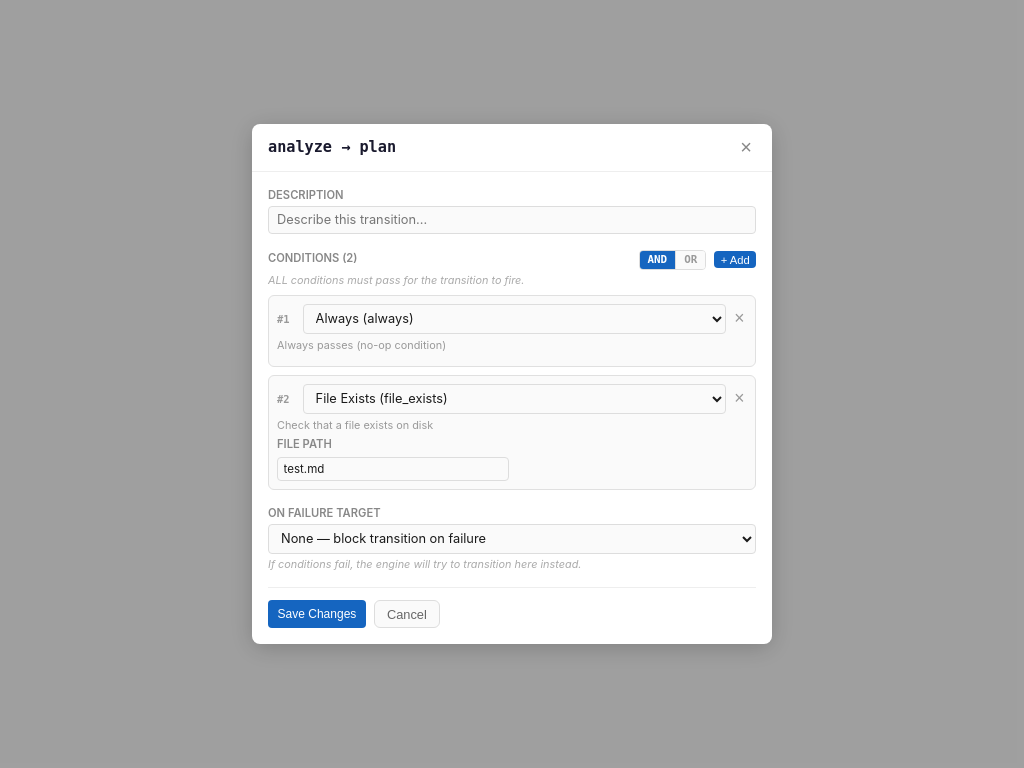
Test: EdgeEditor › conditions › removes a condition when × is clicked on condition header
Expected: the text "#2" is shown, [277, 393, 290, 405]
Click the 2nd button titled "Remove condition" at (739,319), box [732, 310, 747, 328]
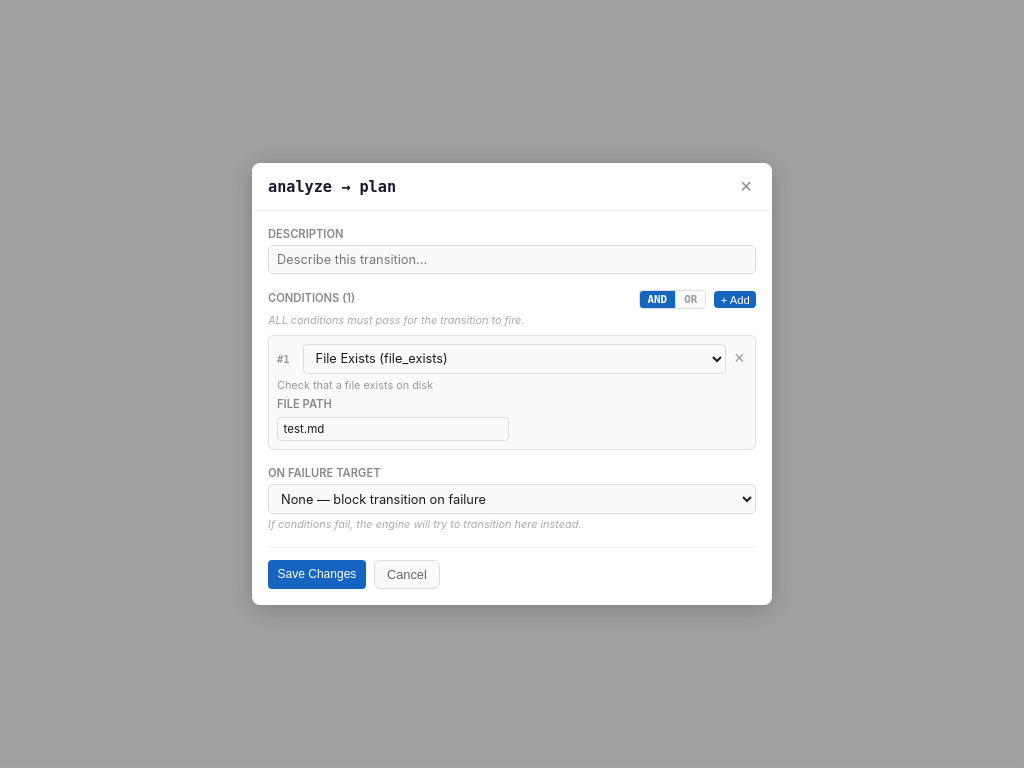
Now the text "#2" is gone
